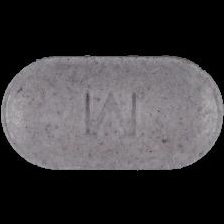53808-1054: (0, 0, 224, 224)
